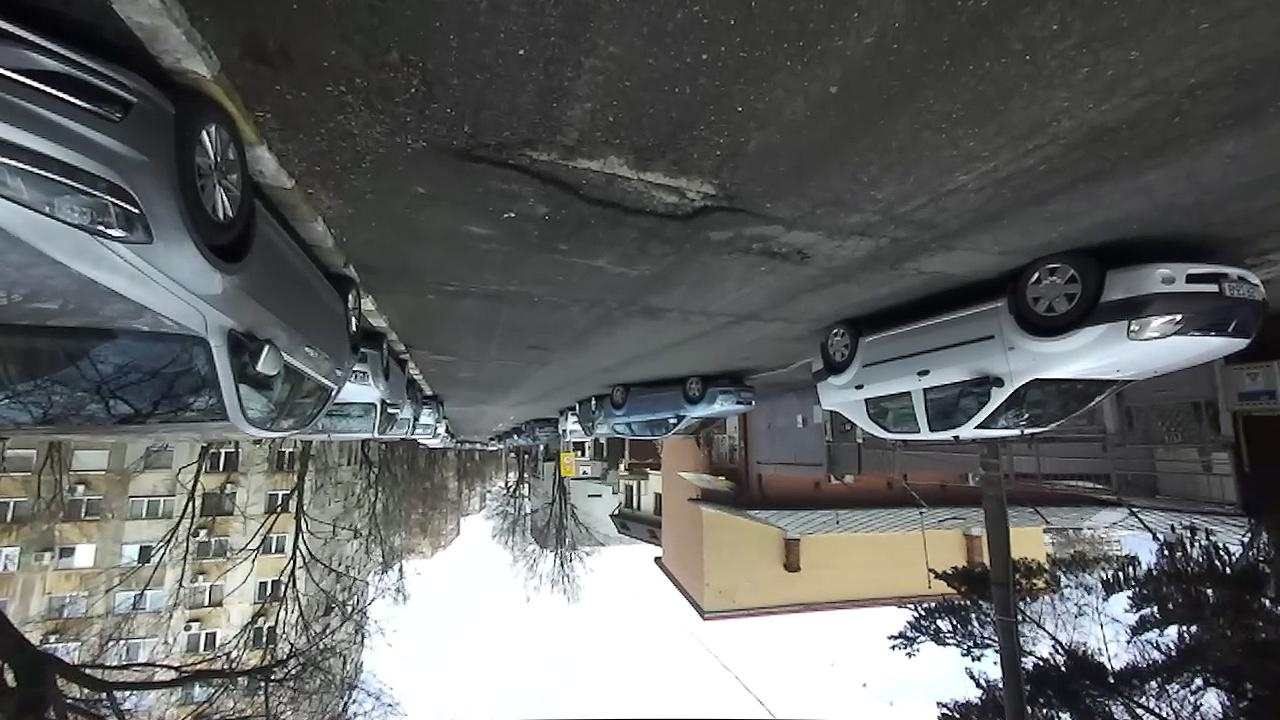pothole: (451, 134, 781, 226), (739, 238, 819, 270)
